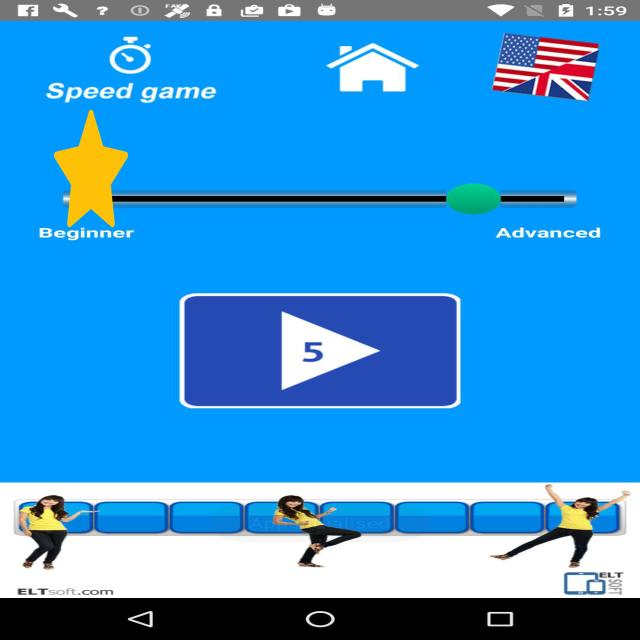forced continuity: (54, 110, 128, 227)
